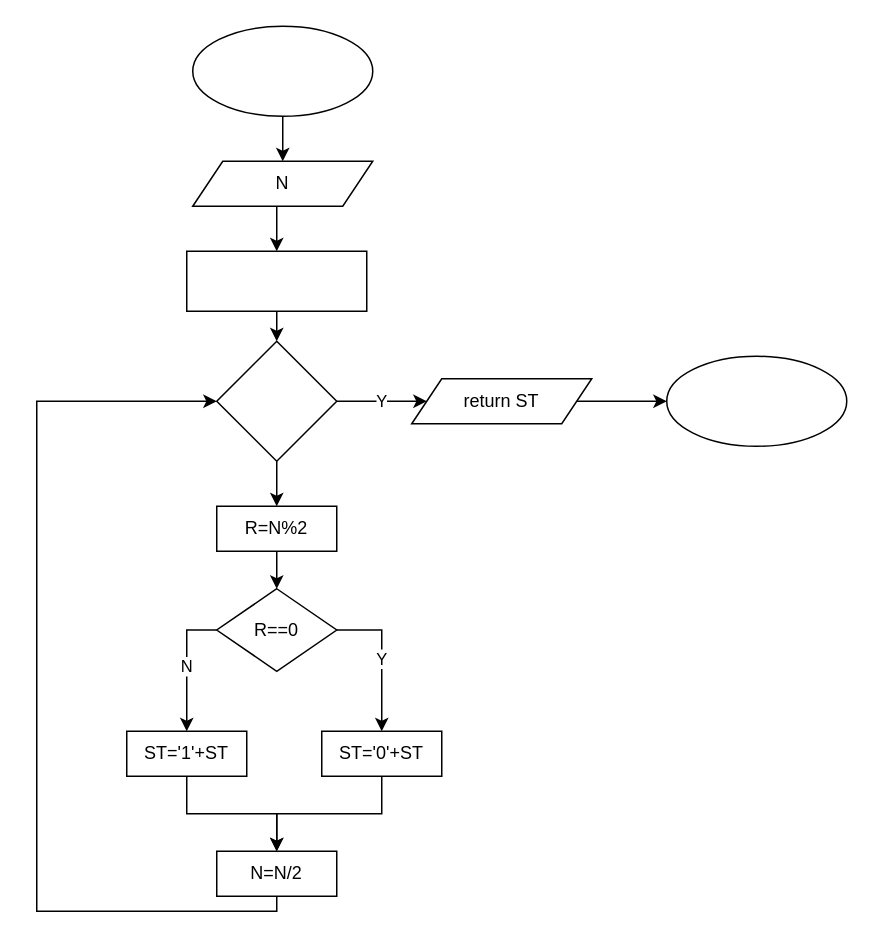
Image size: 873x950. Some labels were removed from this diagram. The shapes that lost their labels are listed below. From the top down, each one's centre as x and y in pixels, then its label:
At [282,70]: "Function B2D(N)".
At [276,280]: "ST = <empty>".
At [276,400]: "N==0?".
At [756,400]: "STOP".
